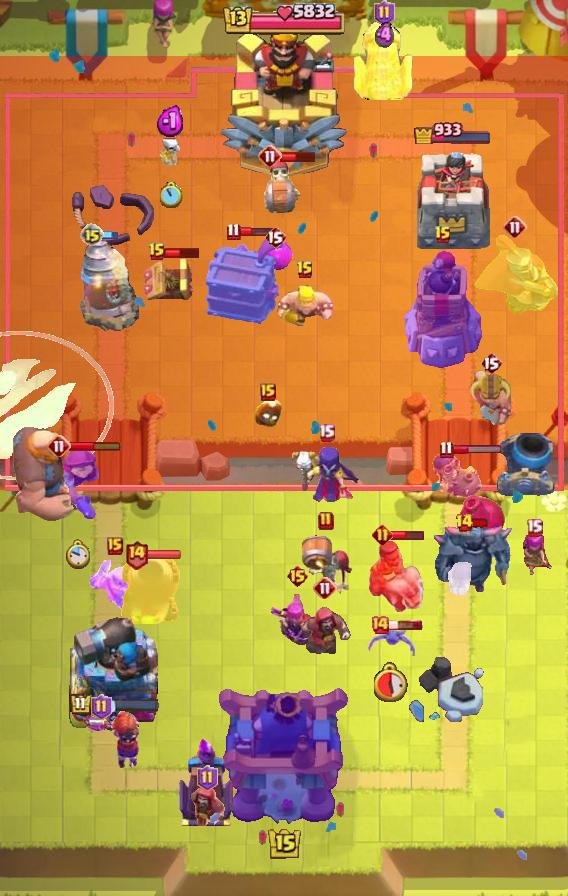archer: (513, 534, 555, 580)
archer-evolution: (269, 590, 325, 650)
bar: (69, 440, 122, 452), (452, 444, 503, 455), (164, 246, 201, 259), (280, 150, 317, 163), (387, 619, 423, 631), (390, 529, 425, 541), (146, 549, 182, 560), (239, 226, 274, 237), (471, 517, 490, 529), (101, 229, 119, 241)
bar-level: (124, 539, 149, 570), (313, 576, 337, 600), (47, 434, 71, 458), (80, 223, 104, 247), (503, 215, 527, 239), (258, 144, 282, 168), (286, 564, 309, 588), (197, 765, 218, 791), (91, 694, 112, 720), (374, 0, 395, 26), (480, 351, 502, 375), (264, 225, 286, 249), (372, 524, 393, 545), (370, 615, 390, 635), (455, 513, 474, 533), (296, 260, 314, 280), (148, 242, 166, 262), (434, 225, 452, 245), (526, 518, 543, 537), (318, 423, 335, 442), (318, 511, 334, 531), (107, 537, 123, 555), (260, 383, 276, 401), (439, 440, 454, 459), (226, 222, 241, 241)
barbarian: (277, 285, 333, 329)
barbarian-evolution: (88, 560, 143, 614)
bat-evolution: (366, 624, 416, 662)
bomb: (456, 490, 508, 544)
bomber-evolution: (431, 450, 483, 504)
cannoneer-tower: (68, 611, 160, 731)
clock: (374, 662, 409, 702), (65, 539, 90, 570), (160, 182, 183, 208)
elite-barbarian: (469, 370, 513, 428)
elixir: (156, 105, 186, 138), (375, 21, 394, 50)
elixir-golem-small: (257, 242, 293, 272)
fire-spirit: (253, 400, 283, 428)
king-tower: (219, 23, 349, 181), (216, 684, 352, 826)
king-tower-bar: (221, 0, 347, 40)
mortar: (495, 432, 555, 496)
mortar-evolution: (118, 554, 182, 624)
queen-tower: (410, 145, 496, 256)
ram-rider: (368, 538, 428, 614)
skeleton: (157, 135, 185, 167)
skeleton-evolution: (446, 562, 477, 600)
tesla: (353, 16, 415, 100), (142, 254, 196, 304)
tower-bar: (69, 693, 160, 718), (413, 119, 493, 144)
valkyrie-evolution: (82, 707, 144, 769)
wall-breaker: (299, 532, 353, 596), (260, 160, 310, 216)
witch: (292, 444, 360, 506)
wizard: (298, 604, 352, 662), (188, 786, 226, 832)
